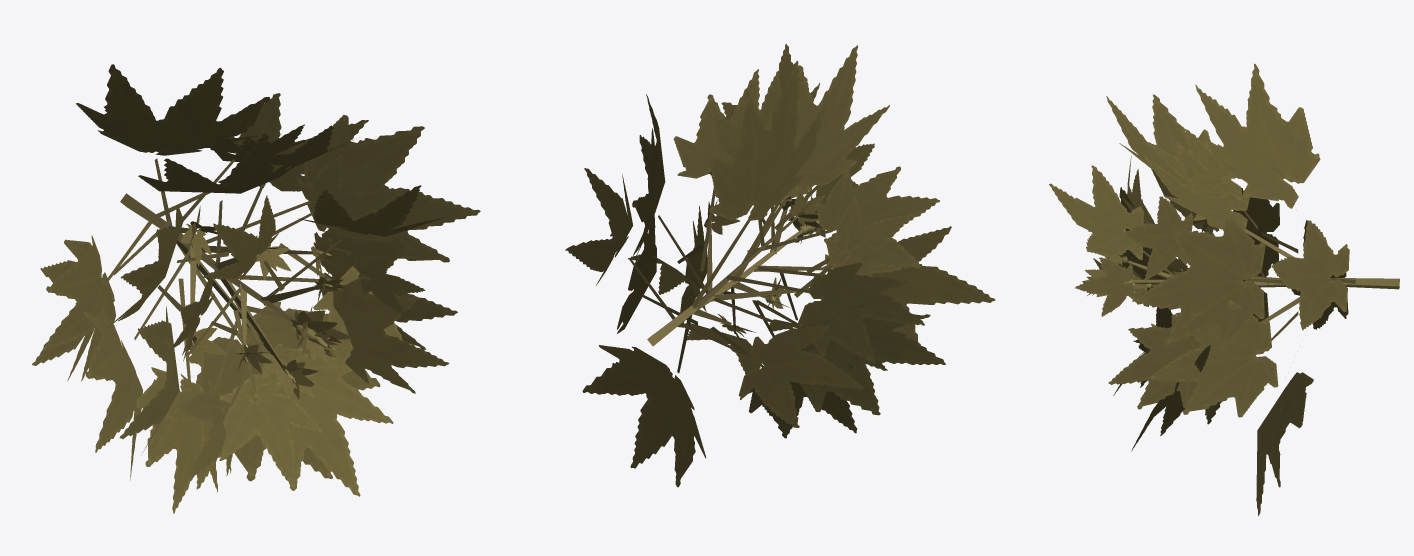
Rendered from p_kush_preflower_c2_cards.obj.
3 renders of one model, left to right at view 1: azimuth 30°, elevation 25°; view 2: azimuth 150°, elevation 25°; view 3: azimuth 270°, elevation 25°, orthographic. The views are drawn at different scales.
Bounding box in the file's own units: 1.23 × 1.56 × 1.09.
1 material, 1 textured.
